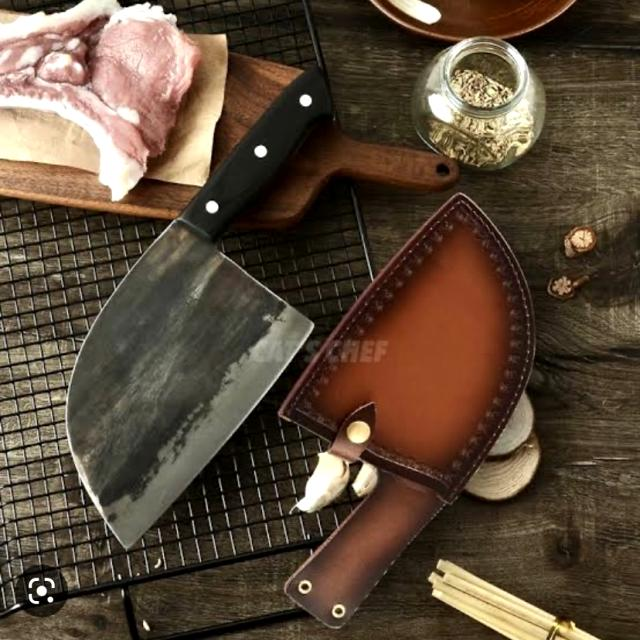knife: (65, 54, 530, 636)
